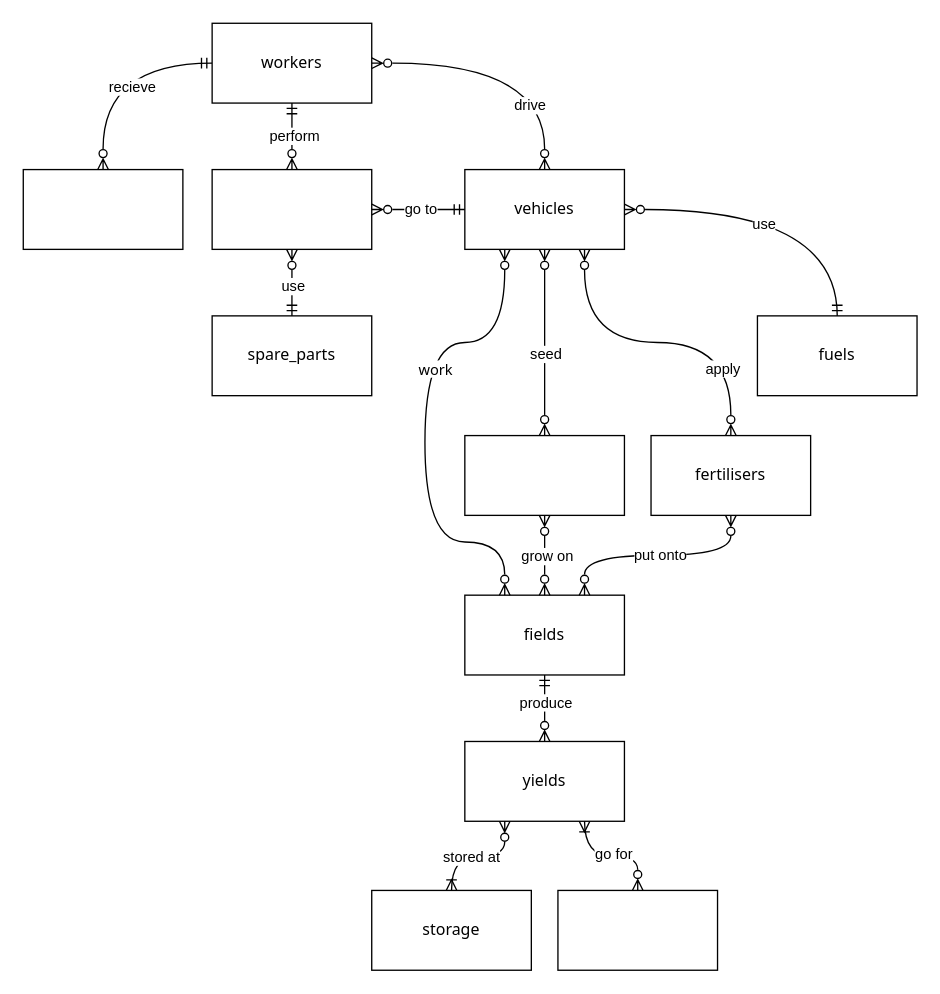
Some shapes in this 940 by 994 pixel diagram are drawn without their labels. Each missing label, with the centre of its shape:
"crops" belongs at pixel 544 474.
"repairs" belongs at pixel 291 208.
"salaries" belongs at pixel 102 208.
"sells" belongs at pixel 637 929.
